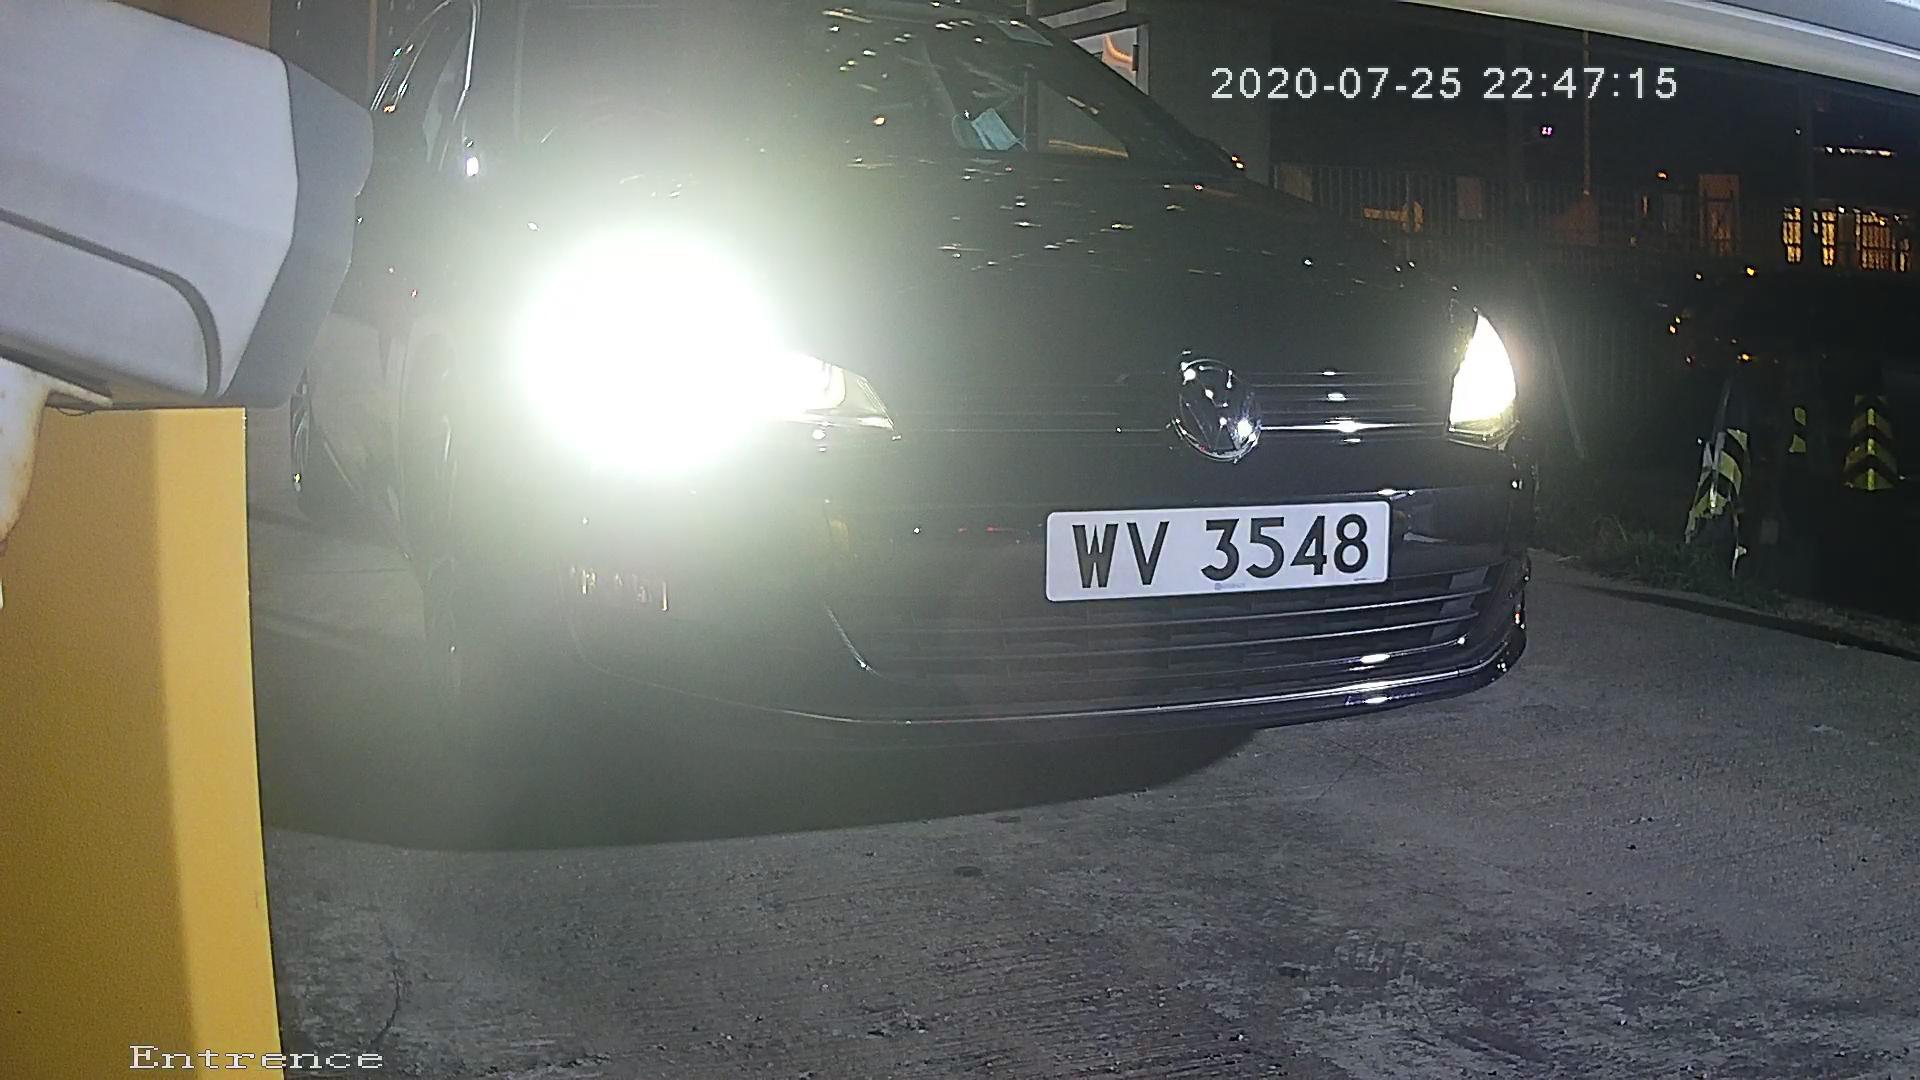License Plate: (1003, 483, 1423, 613)
